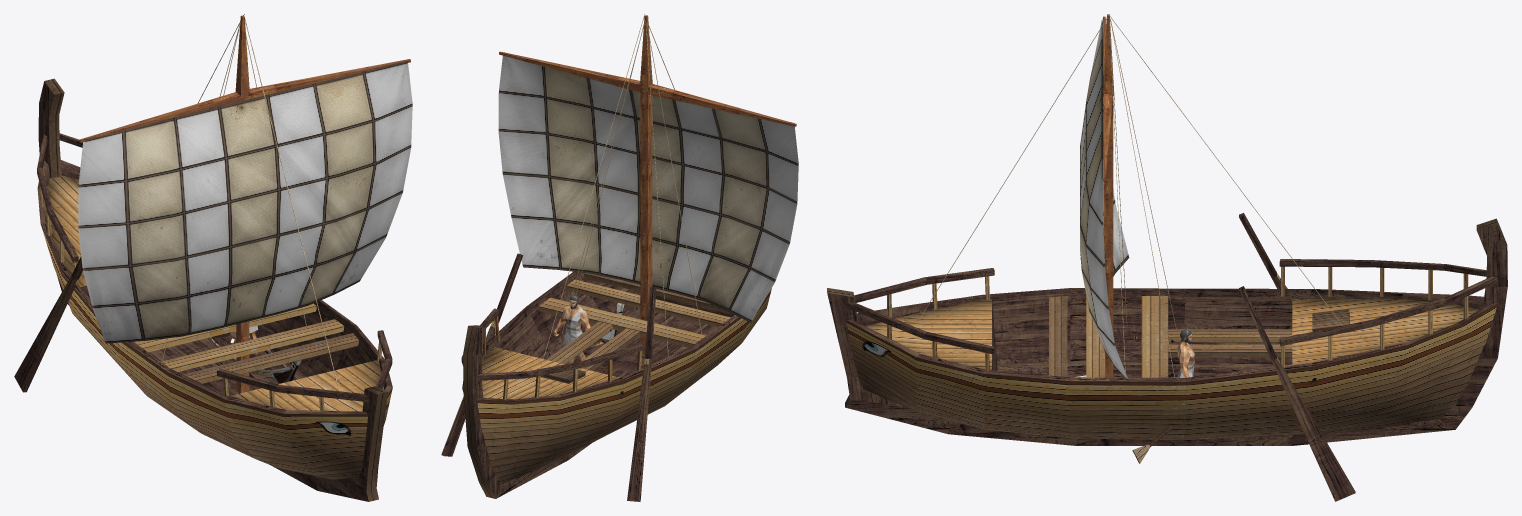
The model's file is barcos.glb.
3 renders of one model, left to right at view 1: azimuth 30°, elevation 25°; view 2: azimuth 150°, elevation 25°; view 3: azimuth 270°, elevation 25°, orthographic. The views are drawn at different scales.
Parts seen in each view (by area): view 1: merchant, fishing; view 2: merchant, fishing; view 3: merchant, fishing.
Boxes of the visible parts, x1,y1,x2,y2 form: merchant: (14,14,412,501); fishing: (207,326,301,383); merchant: (441,14,798,501); fishing: (554,295,624,371); merchant: (827,14,1507,501); fishing: (1075,329,1291,463).
Bounding box in the file's own units: 16.06 × 20.02 × 28.25.
Materials: 6 (6 with a texture image).
